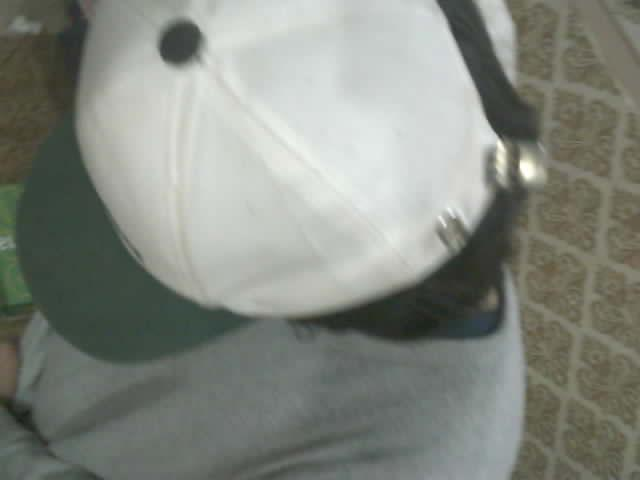cap: (16, 0, 545, 365)
